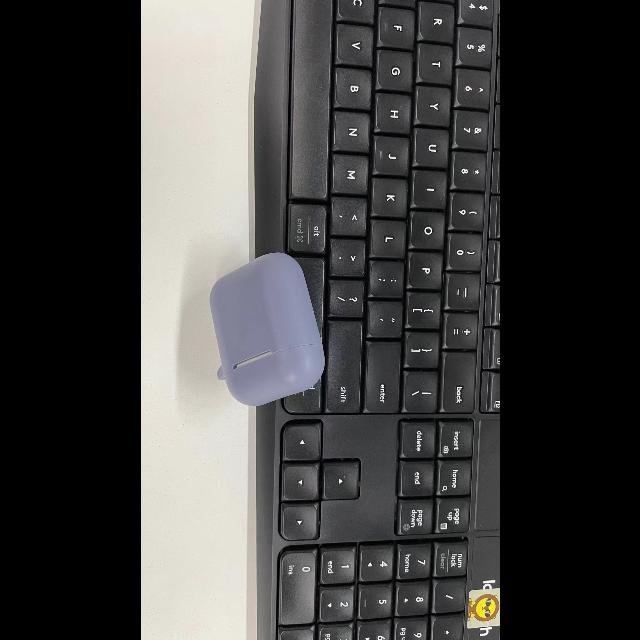airpods: (209, 252, 326, 409)
